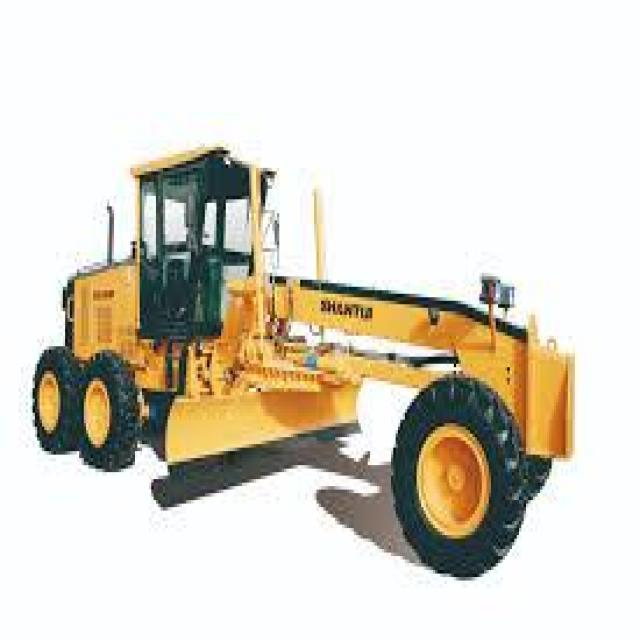bull_dozer/loader/grader: (14, 101, 586, 577)
